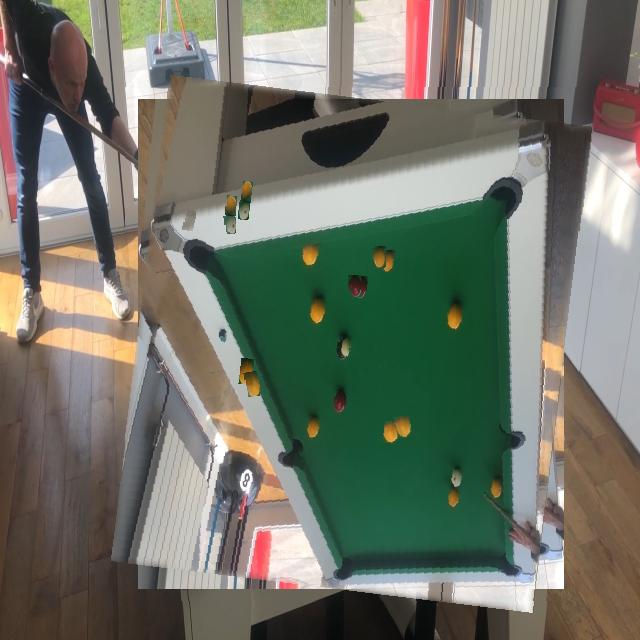Ball: (350, 326, 368, 352), (382, 360, 397, 388), (245, 371, 260, 398), (395, 416, 412, 439), (373, 246, 386, 268), (350, 275, 362, 297), (184, 210, 196, 231), (226, 195, 237, 216), (225, 215, 236, 234)
Billiard table: (126, 87, 580, 601)
